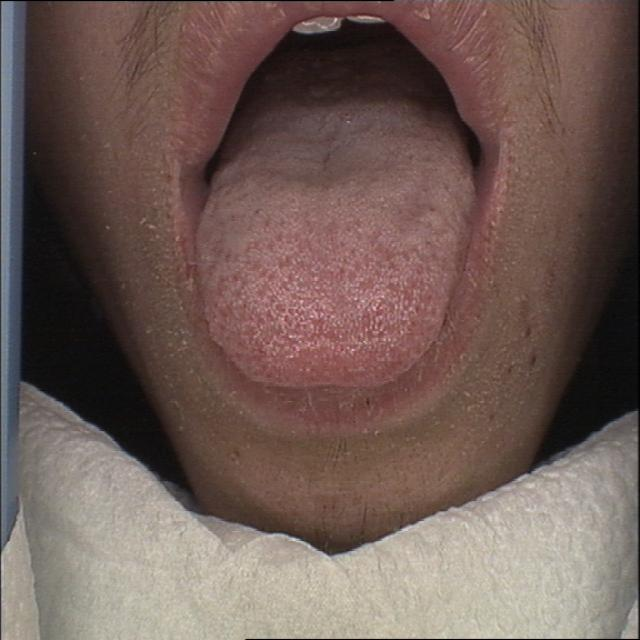tongue: (190, 107, 484, 398)
